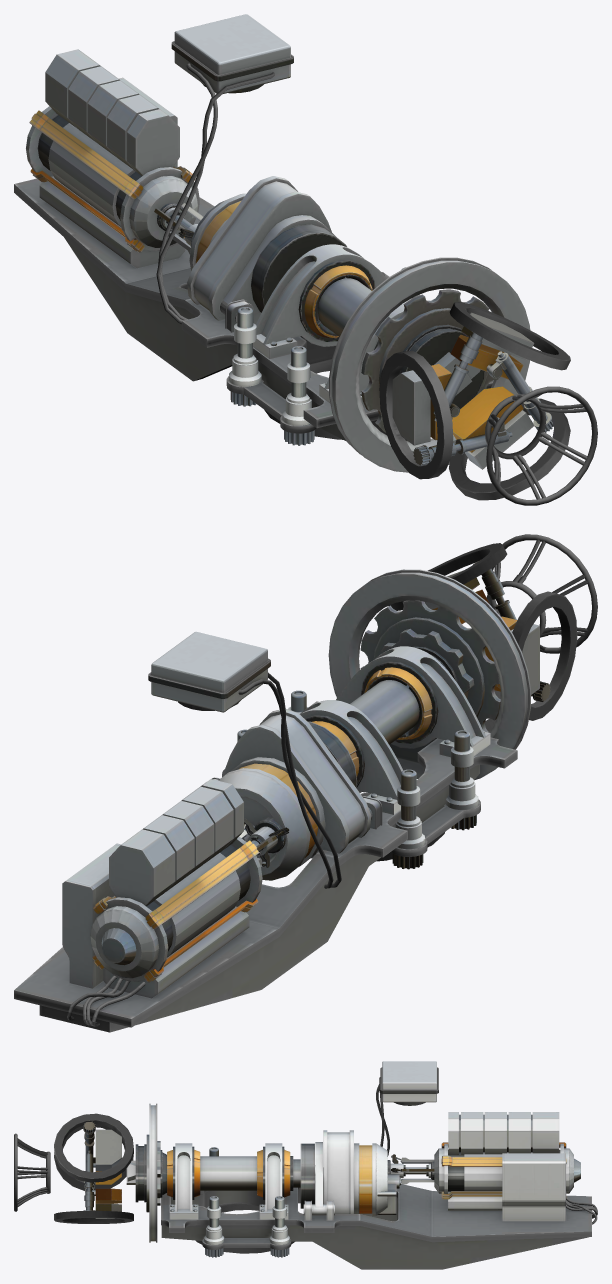
File: shuangkui_neibumoxing_jicang.glb
3 views of the same model, one above another, from view 1: azimuth 30°, elevation 25°; view 2: azimuth 150°, elevation 25°; view 3: azimuth 270°, elevation 25° (orthographic). The views are drawn at different scales.
Parts seen in each view (by area): view 1: neibumoxing_chuandonglian, neibumoxing_bianjiangxitong, neibumoxing_jicangdizuo, neibumoxing_chilunxiang, neibumoxing_bianjiangxitongzhou, neibumoxing_pianhangzhuangzhi; view 2: neibumoxing_chuandonglian, neibumoxing_jicangdizuo, neibumoxing_bianjiangxitong, neibumoxing_chilunxiang, neibumoxing_bianjiangxitongzhou, neibumoxing_pianhangzhuangzhi; view 3: neibumoxing_chuandonglian, neibumoxing_jicangdizuo, neibumoxing_bianjiangxitong, neibumoxing_chilunxiang, neibumoxing_pianhangzhuangzhi, neibumoxing_bianjiangxitongzhou.
Part boxes in pixels (x1,y1,x2,y2): neibumoxing_chuandonglian: (26,14,411,407); neibumoxing_bianjiangxitong: (361,289,597,505); neibumoxing_jicangdizuo: (14,178,493,441); neibumoxing_chilunxiang: (187,176,384,332); neibumoxing_bianjiangxitongzhou: (329,257,530,472); neibumoxing_pianhangzhuangzhi: (229,267,419,445); neibumoxing_chuandonglian: (62,631,490,1026); neibumoxing_jicangdizuo: (14,701,517,1032); neibumoxing_bianjiangxitong: (360,534,597,732); neibumoxing_chilunxiang: (212,709,382,880); neibumoxing_bianjiangxitongzhou: (328,569,530,780); neibumoxing_pianhangzhuangzhi: (237,690,478,869); neibumoxing_chuandonglian: (160,1061,597,1224); neibumoxing_jicangdizuo: (161,1167,591,1269); neibumoxing_bianjiangxitong: (14,1113,160,1223); neibumoxing_chilunxiang: (300,1130,401,1220); neibumoxing_pianhangzhuangzhi: (195,1147,294,1257); neibumoxing_bianjiangxitongzhou: (149,1103,157,1242).
Size of the model in its own units: 419 by 588 by 1716.
1 material, 1 textured.
